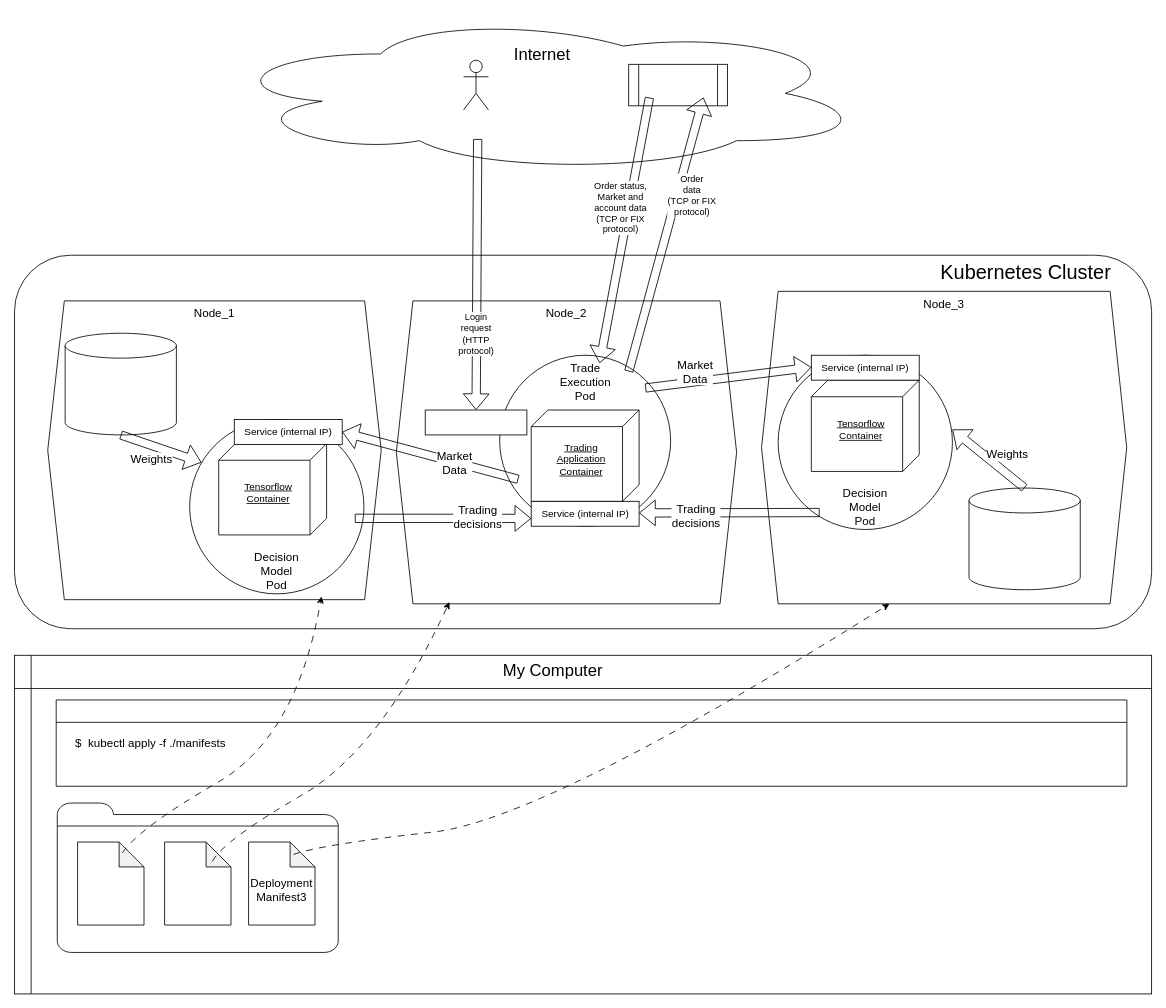
Image size: 1166x1008. Some labels were removed from this diagram. The centre of each missing label's shape, as x and y in pixels:
"Cloud engine cli (e.g. gcloud cli)" belongs at pixel 591 742.
"Deployment Manifest1" belongs at pixel 110 883.
"Deployment Manifest2" belongs at pixel 197 883.
"Exchange Server" belongs at pixel 677 84.
"Ingress (external IP)" belongs at pixel 475 422.
"Model Weight Volume (APAC Markets)" belongs at pixel 120 383.
"Model Weight Volume (EMEA Markets)" belongs at pixel 1024 538.
"User with View Access" belongs at pixel 475 84.
